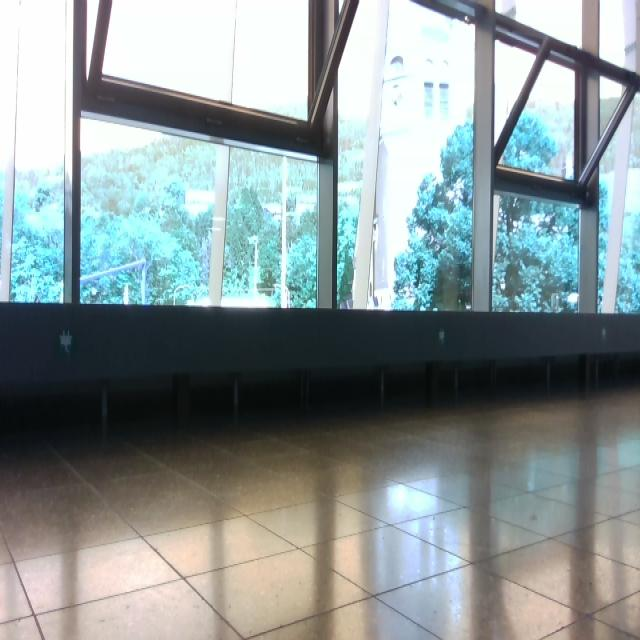light bulb: (551, 293, 560, 312), (567, 292, 579, 305), (123, 284, 130, 305)
tiled floor: (2, 385, 639, 638)
window: (1, 1, 640, 317)
